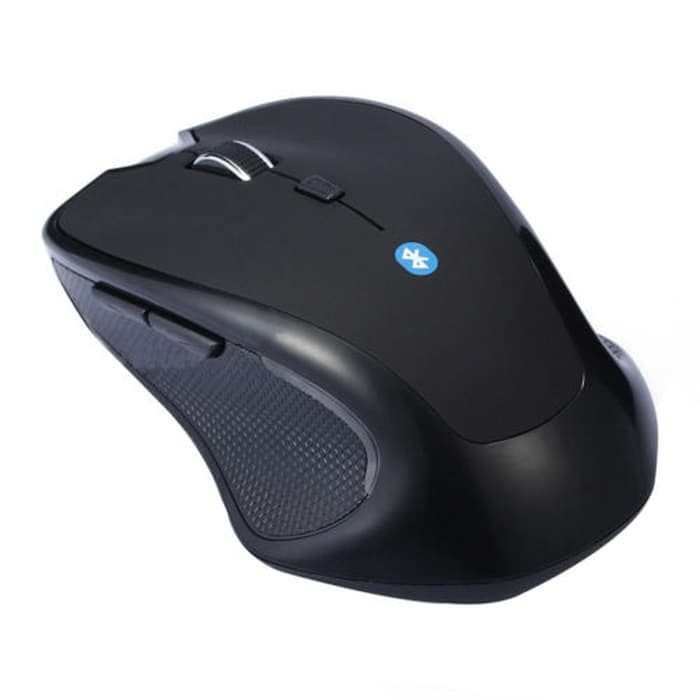Mouse: (31, 81, 667, 615)
